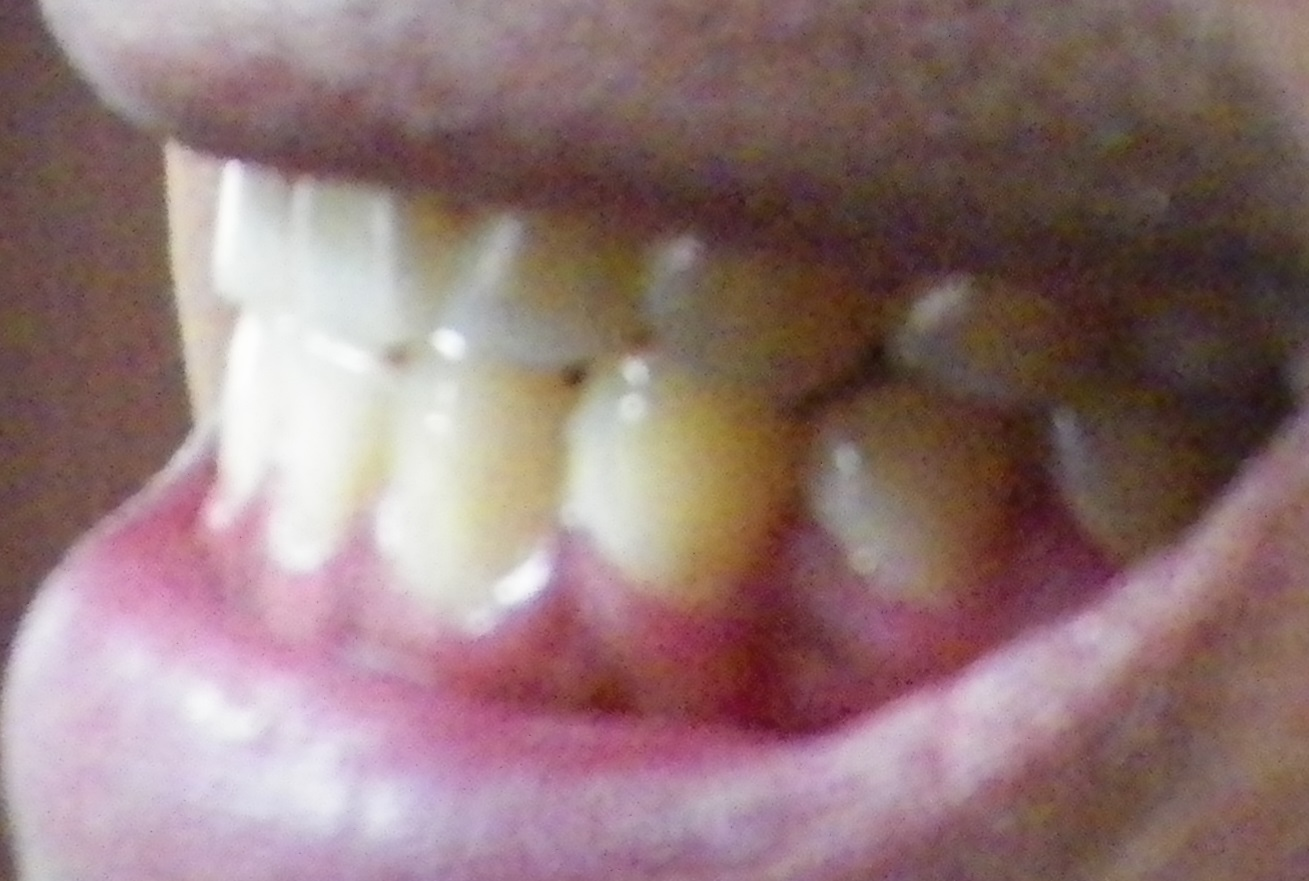boca: (215, 164, 1155, 615)
